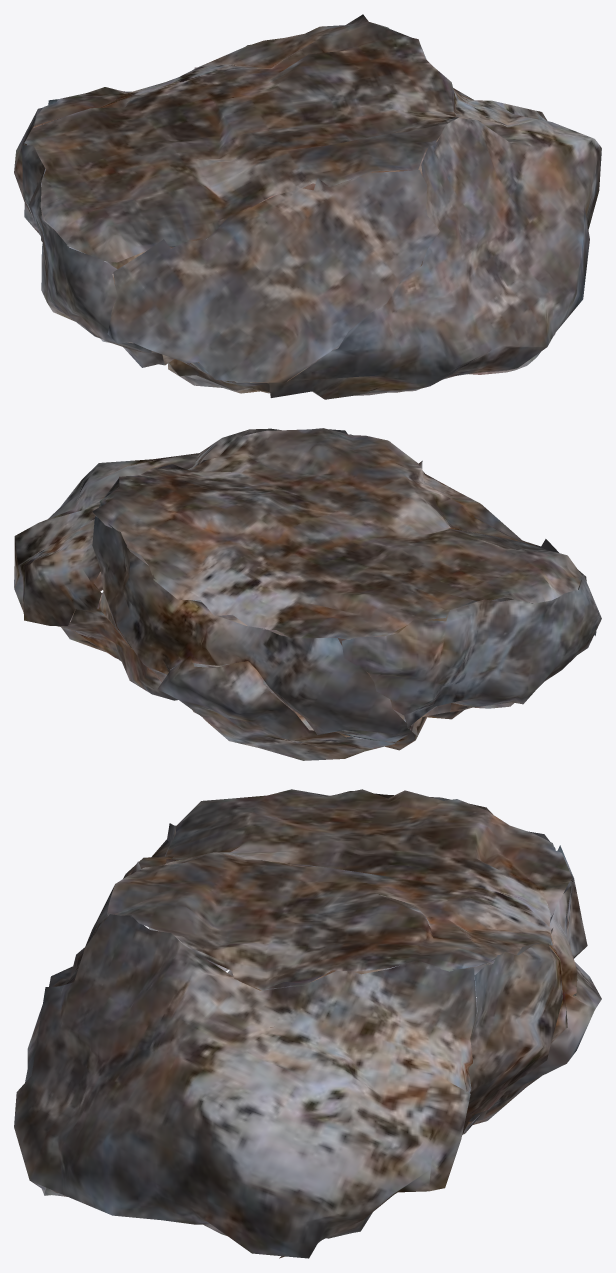
The model's file is namaqualand_rocks_01_v3.glb.
3 views of the same model, one above another, from view 1: azimuth 30°, elevation 25°; view 2: azimuth 150°, elevation 25°; view 3: azimuth 270°, elevation 25° (orthographic). The views are drawn at different scales.
Parts seen in each view (by area): view 1: lod0; view 2: lod0; view 3: lod0.
Part boxes in pixels (left/top/right/bottom): lod0: left=14, top=14, right=601, bottom=399; lod0: left=14, top=428, right=601, bottom=760; lod0: left=14, top=789, right=601, bottom=1258.
Size of what is drawn, in the model's own units: 0.2127 by 0.0846 by 0.1672.
Materials: 1 (1 with a texture image).
